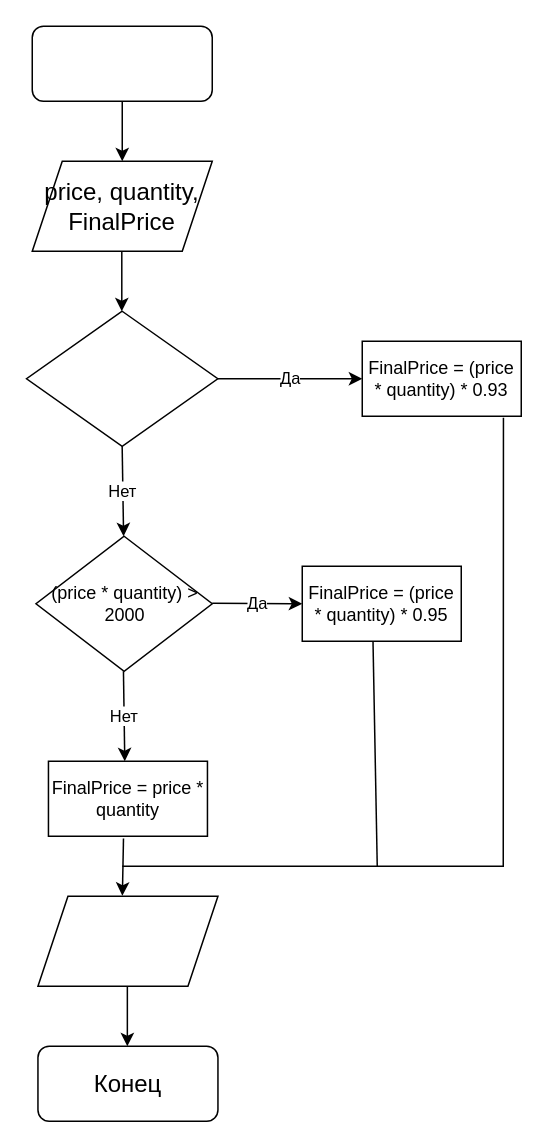
The diagram is 548 pixels wide and 1148 high, and some of its shapes have lost their labels. Here are the shapes that lost their labels. From the top down, the box of each, then its label:
(31, 25, 212, 101): Начало
(25, 310, 218, 446): (price * quantity) > 4000
(36, 895, 218, 986): FinalPrice
